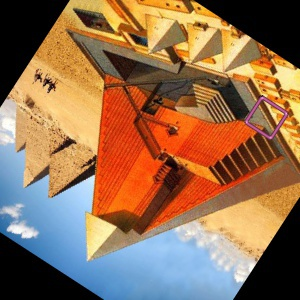square: (244, 95, 289, 141)
